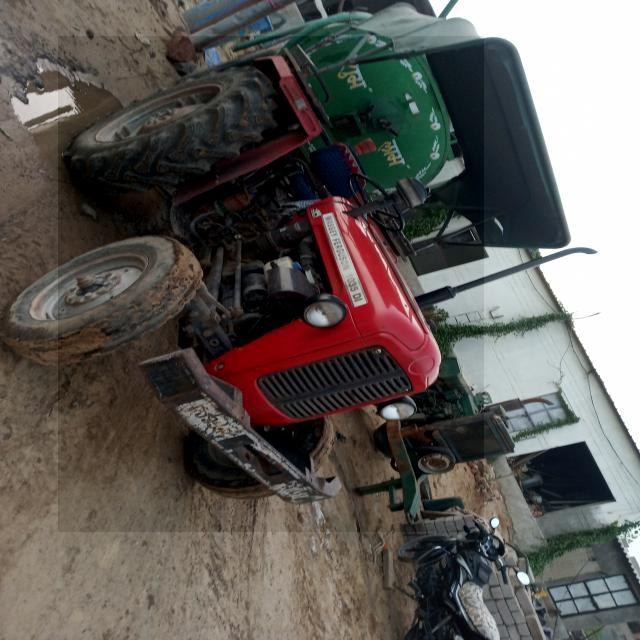Tractot: (58, 36, 484, 532)
